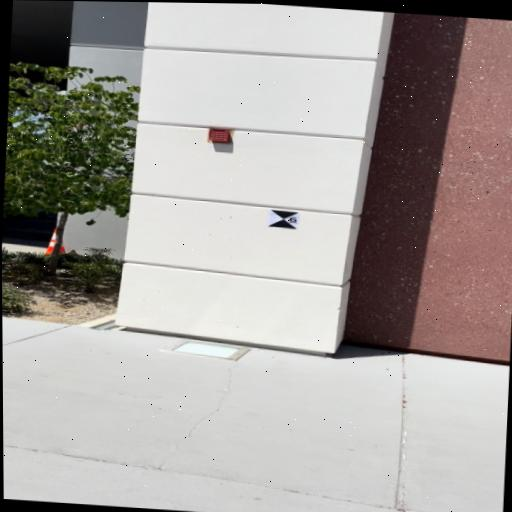target6: (269, 210, 300, 230)
